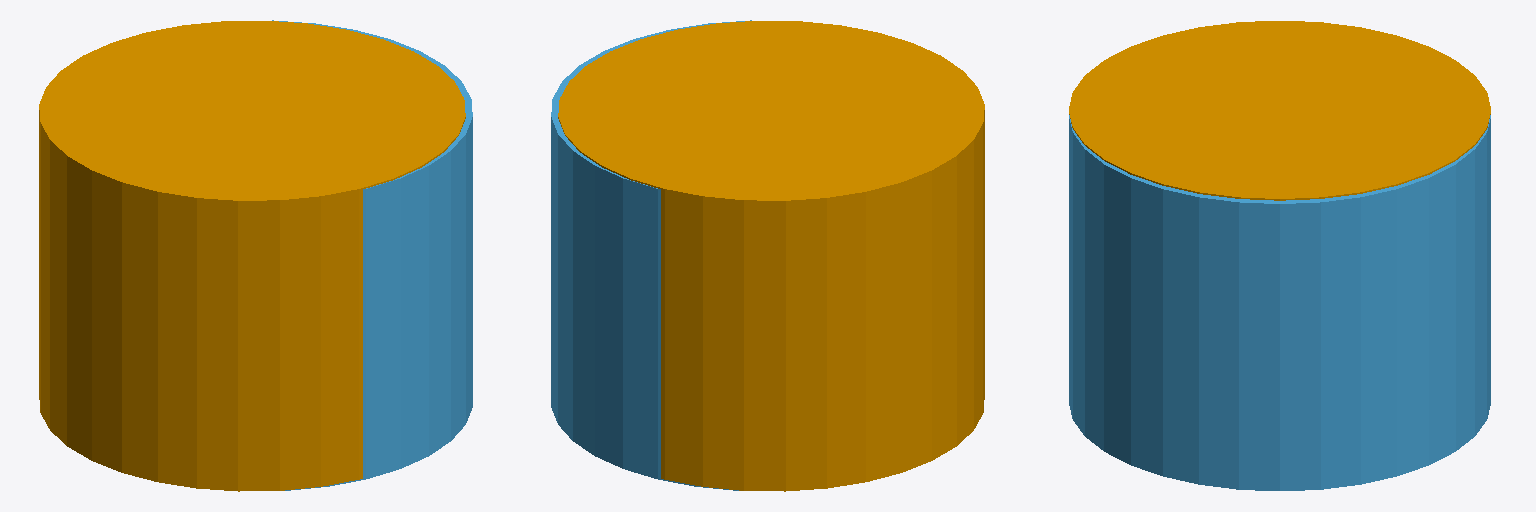
robot.urdf — mira:
<?xml version="1.0"?>
<robot name="mira">
    <link name="base_link">
    <inertial>
            <origin xyz="0 0 0" rpy="0 0 0"/>
            <mass value="0.18" />
            <inertia ixx="0.0002835" ixy="0.0" ixz="0.0" iyy="0.0002835" iyz="0.0" izz="0.000324"/>
        </inertial>
        <collision>
            <origin xyz="0 0 0" rpy="0 0 0"/>
            <geometry>
                <cylinder radius="0.06" length="0.09"/>
            </geometry>
        </collision>
        <visual>
        <origin rpy="0 0 0" xyz="0 0 0"/>
        <geometry>
            <cylinder radius="0.06" length="0.09"/>
        </geometry>
        </visual>
    </link>
  
    <link name="roll_M1_link">
    <inertial>
            <origin xyz="0 0 0" rpy="0 0 0"/>
            <mass value="0.18" />
            <inertia ixx="0.0002835" ixy="0.0" ixz="0.0" iyy="0.0002835" iyz="0.0" izz="0.000324"/>
        </inertial>
        <collision>
            <origin xyz="0 0 0" rpy="0 0 0"/>
            <geometry>
                <cylinder radius="0.06" length="0.09"/>
            </geometry>
        </collision>
        <visual>
            <origin rpy="0 0 0" xyz="0 0 0"/>
            <geometry>
                <cylinder radius="0.06" length="0.09"/>
            </geometry>
        </visual>
    </link>
    
    <joint name="roll_joint" type="revolute">
        <parent link="base_link"/>
        <child link="roll_M1_link"/>
        <origin xyz="0.0023 0 -0.0005" rpy="0 0 0"/>
        <limit lower="-0.2" upper="0.2" effort="0.1" velocity="0.005"/>
        <axis xyz="1 0 0"/>
    </joint>
  
</robot>

--- Facts derived from the render (not from the file) ---
The picture shows the robot from 3 angles, left to right: view 1: azimuth 30°, elevation 25°; view 2: azimuth 150°, elevation 25°; view 3: azimuth 270°, elevation 25°; orthographic projection.
Model mira with 2 links and 1 joints (1 revolute), rooted at base_link, posed every joint at zero.
Links seen in each view (by area): view 1: base_link, roll_M1_link; view 2: base_link, roll_M1_link; view 3: roll_M1_link, base_link.
Boxes of the visible links, x1=… form: base_link: x1=39, y1=21, x2=465, y2=491; roll_M1_link: x1=272, y1=20, x2=472, y2=490; base_link: x1=558, y1=21, x2=984, y2=491; roll_M1_link: x1=551, y1=20, x2=751, y2=490; roll_M1_link: x1=1069, y1=115, x2=1490, y2=490; base_link: x1=1069, y1=21, x2=1490, y2=200.
Bounding box of the posed robot: 0.1223 × 0.12 × 0.0905 m (x, y, z).
Geometry: primitives only (box / cylinder / sphere), no mesh files.
